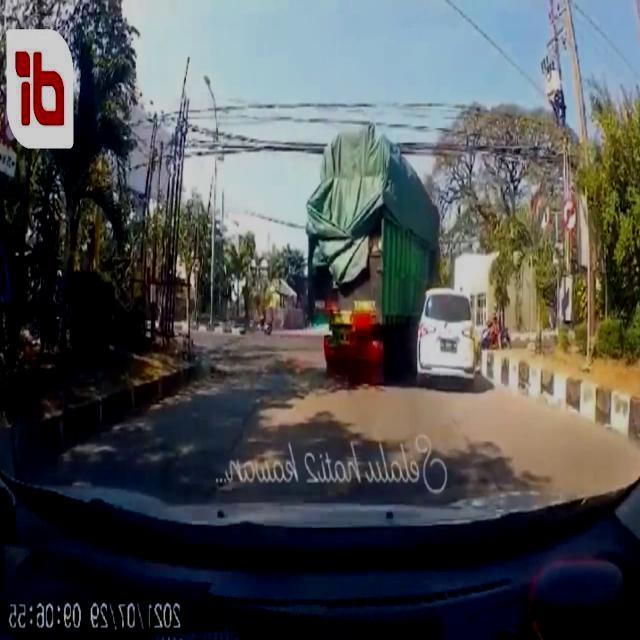accident: (305, 120, 483, 390)
